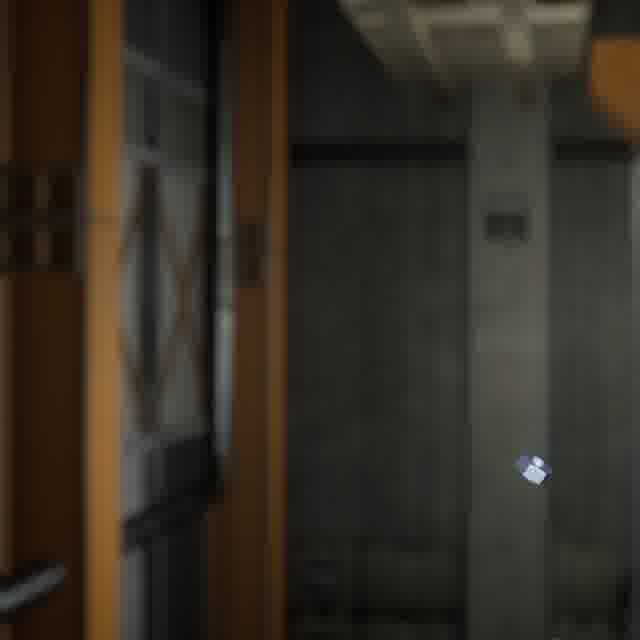nut: (510, 447, 557, 488)
